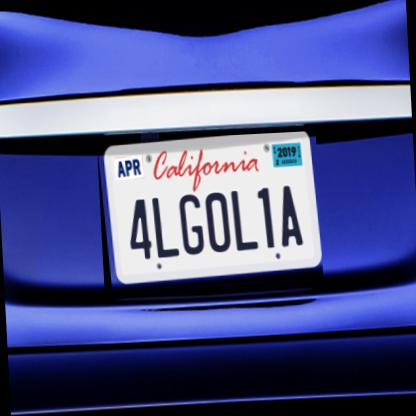Plates: (96, 131, 324, 290)
